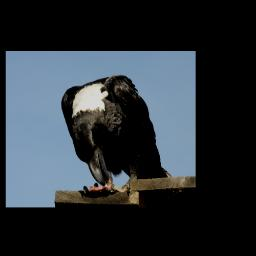Crow: (59, 72, 172, 196)
